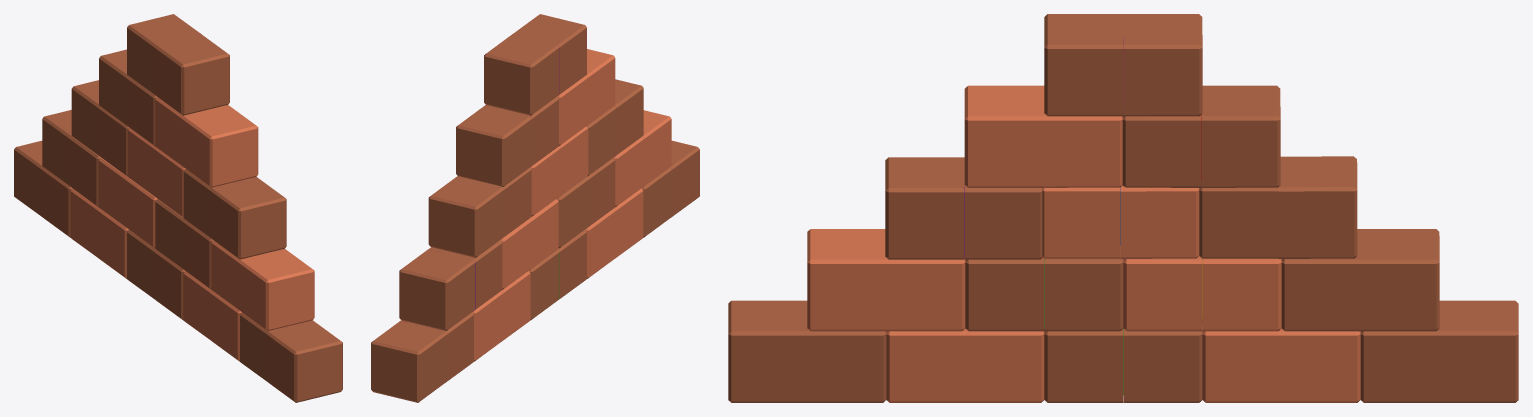
The model's file is wall2.fbx.
3 renders of one model, left to right at view 1: azimuth 30°, elevation 25°; view 2: azimuth 150°, elevation 25°; view 3: azimuth 270°, elevation 25°, orthographic. The views are drawn at different scales.
Parts seen in each view (by area): view 1: Cube.049, Cube.051, Cube.052, Cube.066, Cube.050, Cube.057, Cube.061, Cube.065, Cube.181, Cube.179, Cube.060, Cube.068 (+18 smaller); view 2: Cube.179, Cube.061, Cube.057, Cube.065, Cube.181, Cube.052, Cube.050, Cube.066, Cube.049, Cube.051, Cube.060, Cube.069 (+18 smaller); view 3: Cube.050, Cube.065, Cube.052, Cube.057, Cube.061, Cube.051, Cube.066, Cube.049, Cube.181, Cube.179, Cube.060, Cube.071 (+18 smaller).
Boxes of the visible parts, bbox=[...] form: Cube.049: bbox=[238, 249, 314, 330]; Cube.051: bbox=[182, 106, 258, 187]; Cube.052: bbox=[154, 34, 229, 115]; Cube.066: bbox=[267, 321, 342, 402]; Cube.050: bbox=[211, 177, 286, 259]; Cube.057: bbox=[127, 14, 200, 93]; Cube.061: bbox=[42, 110, 71, 185]; Cube.065: bbox=[14, 140, 42, 215]; Cube.181: bbox=[99, 49, 127, 124]; Cube.179: bbox=[71, 80, 100, 155]; Cube.060: bbox=[69, 136, 100, 206]; Cube.068: bbox=[126, 177, 157, 248]; Cube.179: bbox=[428, 176, 504, 257]; Cube.061: bbox=[399, 249, 474, 330]; Cube.057: bbox=[484, 34, 559, 115]; Cube.065: bbox=[371, 321, 446, 402]; Cube.181: bbox=[456, 105, 531, 186]; Cube.052: bbox=[513, 14, 586, 95]; Cube.050: bbox=[615, 79, 643, 155]; Cube.066: bbox=[671, 140, 699, 216]; Cube.049: bbox=[642, 110, 671, 185]; Cube.051: bbox=[586, 49, 615, 124]; Cube.060: bbox=[429, 240, 502, 309]; Cube.069: bbox=[500, 218, 531, 289]; Cube.050: bbox=[885, 157, 964, 259]; Cube.065: bbox=[1439, 300, 1518, 402]; Cube.052: bbox=[1044, 14, 1123, 116]; Cube.057: bbox=[1123, 14, 1202, 116]; Cube.061: bbox=[1360, 229, 1439, 331]; Cube.051: bbox=[964, 85, 1043, 187]; Cube.066: bbox=[728, 300, 807, 402]; Cube.049: bbox=[807, 229, 886, 331]; Cube.181: bbox=[1201, 85, 1280, 187]; Cube.179: bbox=[1278, 156, 1357, 258]; Cube.060: bbox=[1281, 229, 1360, 331]; Cube.071: bbox=[1044, 246, 1123, 331].
Bounding box in the file's own units: 50.19 × 250 × 500.
